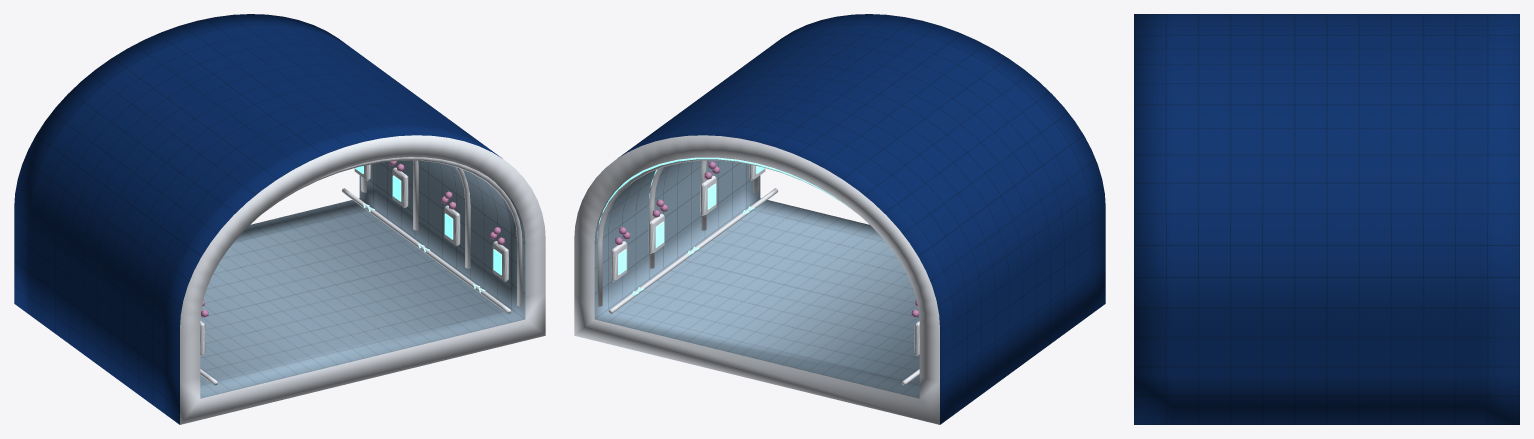
The model's file is straight_12m_lod1.glb.
The picture shows the model from 3 angles, left to right: view 1: azimuth 30°, elevation 25°; view 2: azimuth 150°, elevation 25°; view 3: azimuth 270°, elevation 25°; orthographic projection. The views are drawn at different scales.
Visible parts, largest first — view 1: TunnelGeometry.001; view 2: TunnelGeometry.001; view 3: TunnelGeometry.001.
Part boxes in pixels (x1,y1,x2,y2): TunnelGeometry.001: [14, 14, 545, 424]; TunnelGeometry.001: [574, 14, 1105, 424]; TunnelGeometry.001: [1134, 14, 1519, 424].
Bounding box in the file's own units: 15.3 × 9.52 × 12.
5 materials, 2 textured.
